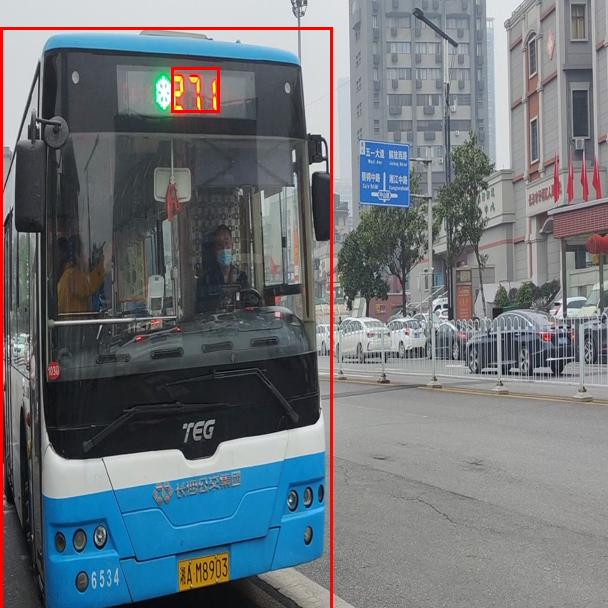bus: (0, 27, 332, 608)
screen: (171, 67, 219, 112)
